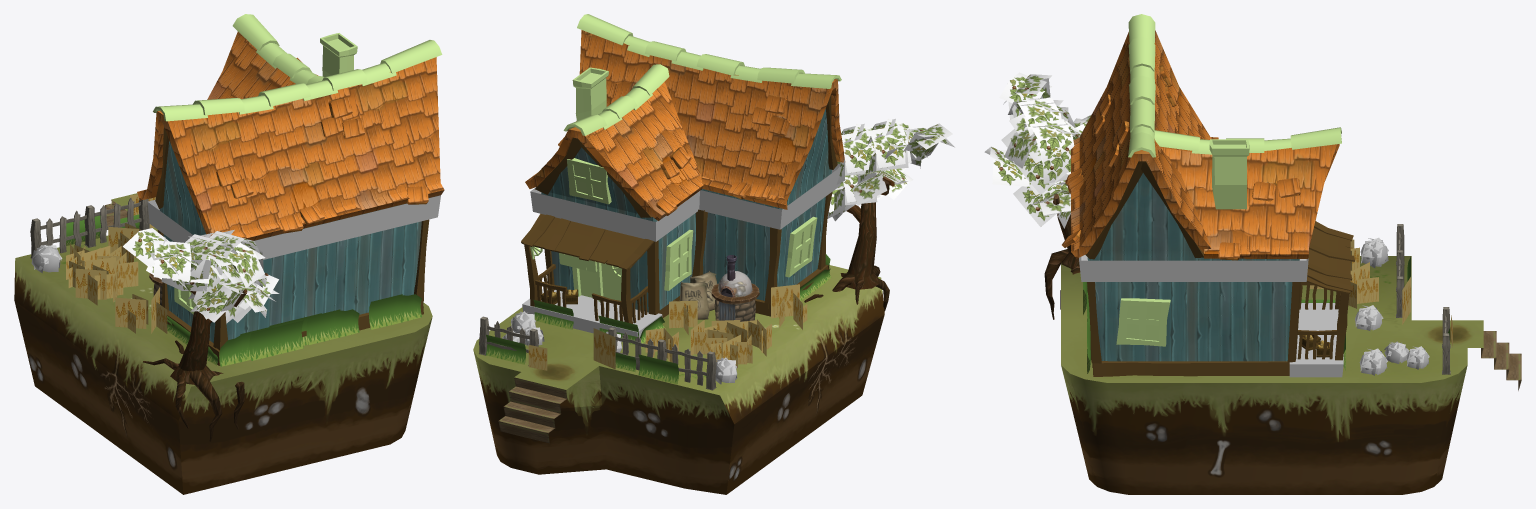
File: bakery.fbx
3 views of the same model, side by side, from view 1: azimuth 30°, elevation 25°; view 2: azimuth 150°, elevation 25°; view 3: azimuth 270°, elevation 25° (orthographic). The views are drawn at different scales.
Visible parts, largest first — view 1: Base, Back Big Roof, House, Da Tree, Upper roof tiles001, Plane018, Wheat, Ridge001, Loose Tiles001, Front Smol Roof, Fence001, Wooden Support Pillars (+3 smaller); view 2: Base, Back Big Roof, House, Da Tree, Front Smol Roof, Wheat, Ridge001, Upper roof tiles001, Wooden Support Pillars, Frames - Doors and Windows001, Plane018, Porch Cover001 (+10 smaller); view 3: Base, House, Back Big Roof, Front Smol Roof, Da Tree, Upper roof tiles001, Ridge001, Wooden Support Pillars, Object002, Loose Tiles001, Bushes, Chimney001 (+7 smaller).
Boxes of the visible parts, x1,y1,x2,y2 form: Base: (14, 193, 432, 494); Back Big Roof: (137, 57, 444, 240); House: (159, 141, 421, 342); Da Tree: (123, 228, 279, 441); Upper roof tiles001: (153, 14, 442, 121); Plane018: (66, 214, 421, 366); Wheat: (66, 194, 159, 333); Ridge001: (147, 195, 440, 259); Loose Tiles001: (216, 57, 428, 233); Front Smol Roof: (207, 31, 295, 99); Fence001: (30, 197, 149, 258); Wooden Support Pillars: (155, 127, 429, 350); Base: (473, 265, 884, 494); Back Big Roof: (576, 30, 845, 209); House: (541, 109, 831, 312); Da Tree: (804, 118, 954, 310); Front Smol Roof: (525, 81, 703, 220); Wheat: (528, 284, 807, 370); Ridge001: (530, 164, 841, 241); Upper roof tiles001: (563, 14, 841, 135); Wooden Support Pillars: (524, 94, 837, 323); Frames - Doors and Windows001: (567, 158, 817, 301); Plane018: (486, 254, 830, 384); Porch Cover001: (521, 213, 644, 269); Base: (1061, 256, 1521, 494); House: (1087, 173, 1299, 361); Back Big Roof: (1071, 30, 1218, 258); Front Smol Roof: (1160, 144, 1339, 258); Da Tree: (984, 72, 1091, 319); Upper roof tiles001: (1128, 14, 1341, 157); Ridge001: (1079, 255, 1308, 281); Wooden Support Pillars: (1085, 161, 1349, 363); Object002: (1092, 361, 1289, 376); Loose Tiles001: (1062, 63, 1300, 260); Bushes: (1355, 237, 1429, 375); Chimney001: (1209, 139, 1249, 209).
Size of the model in its own units: 1381 by 1409 by 1872.
